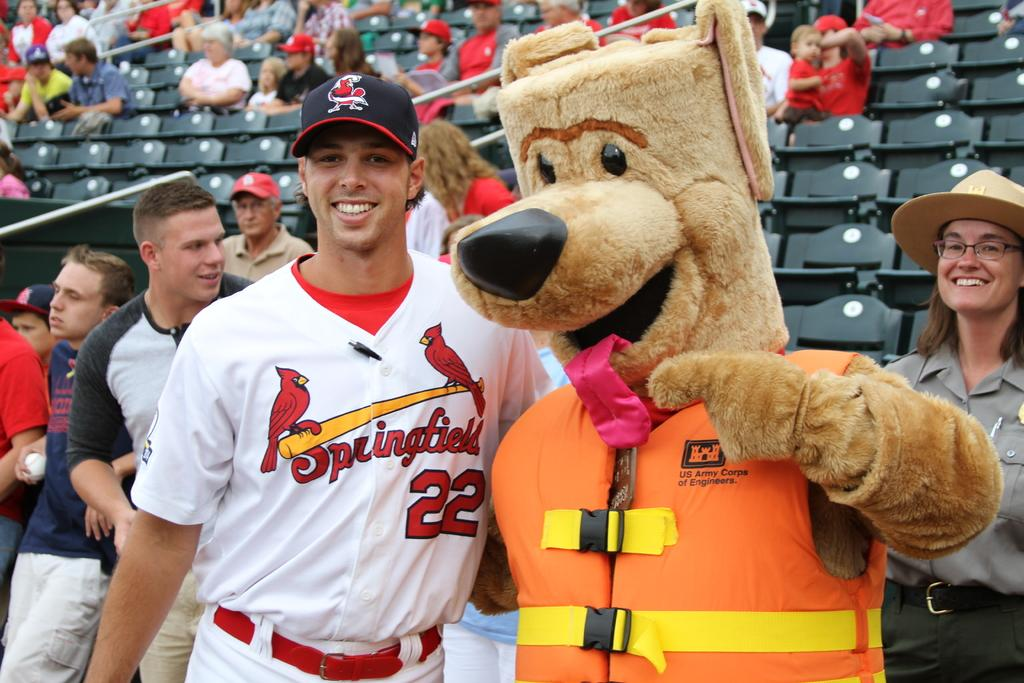Hat: (886, 168, 1022, 282), (288, 73, 416, 158), (0, 283, 50, 317), (226, 169, 278, 199), (405, 20, 451, 42), (806, 6, 840, 30), (741, 0, 767, 16), (22, 45, 48, 59)
